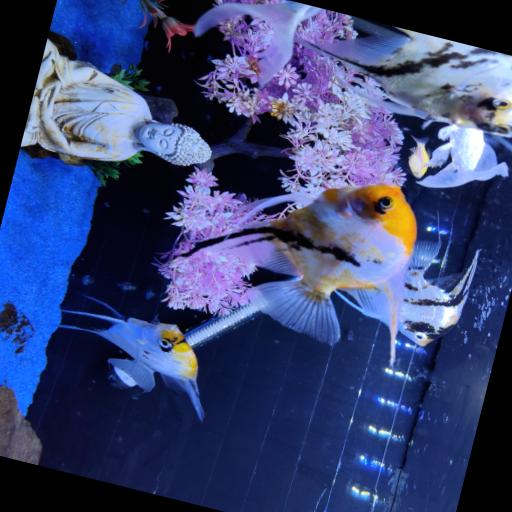Fish: (181, 183, 416, 360), (295, 25, 511, 136), (40, 296, 203, 419), (194, 1, 322, 83), (398, 240, 478, 345), (417, 124, 507, 187), (408, 135, 428, 177)
